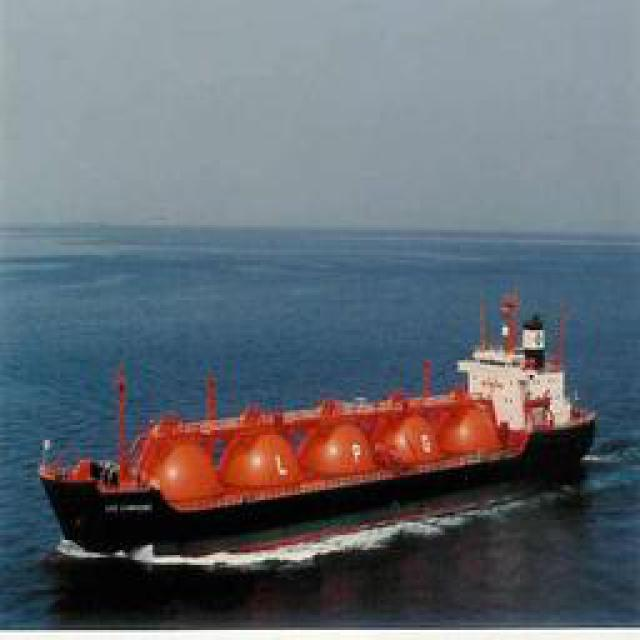Ship: (46, 330, 599, 560)
